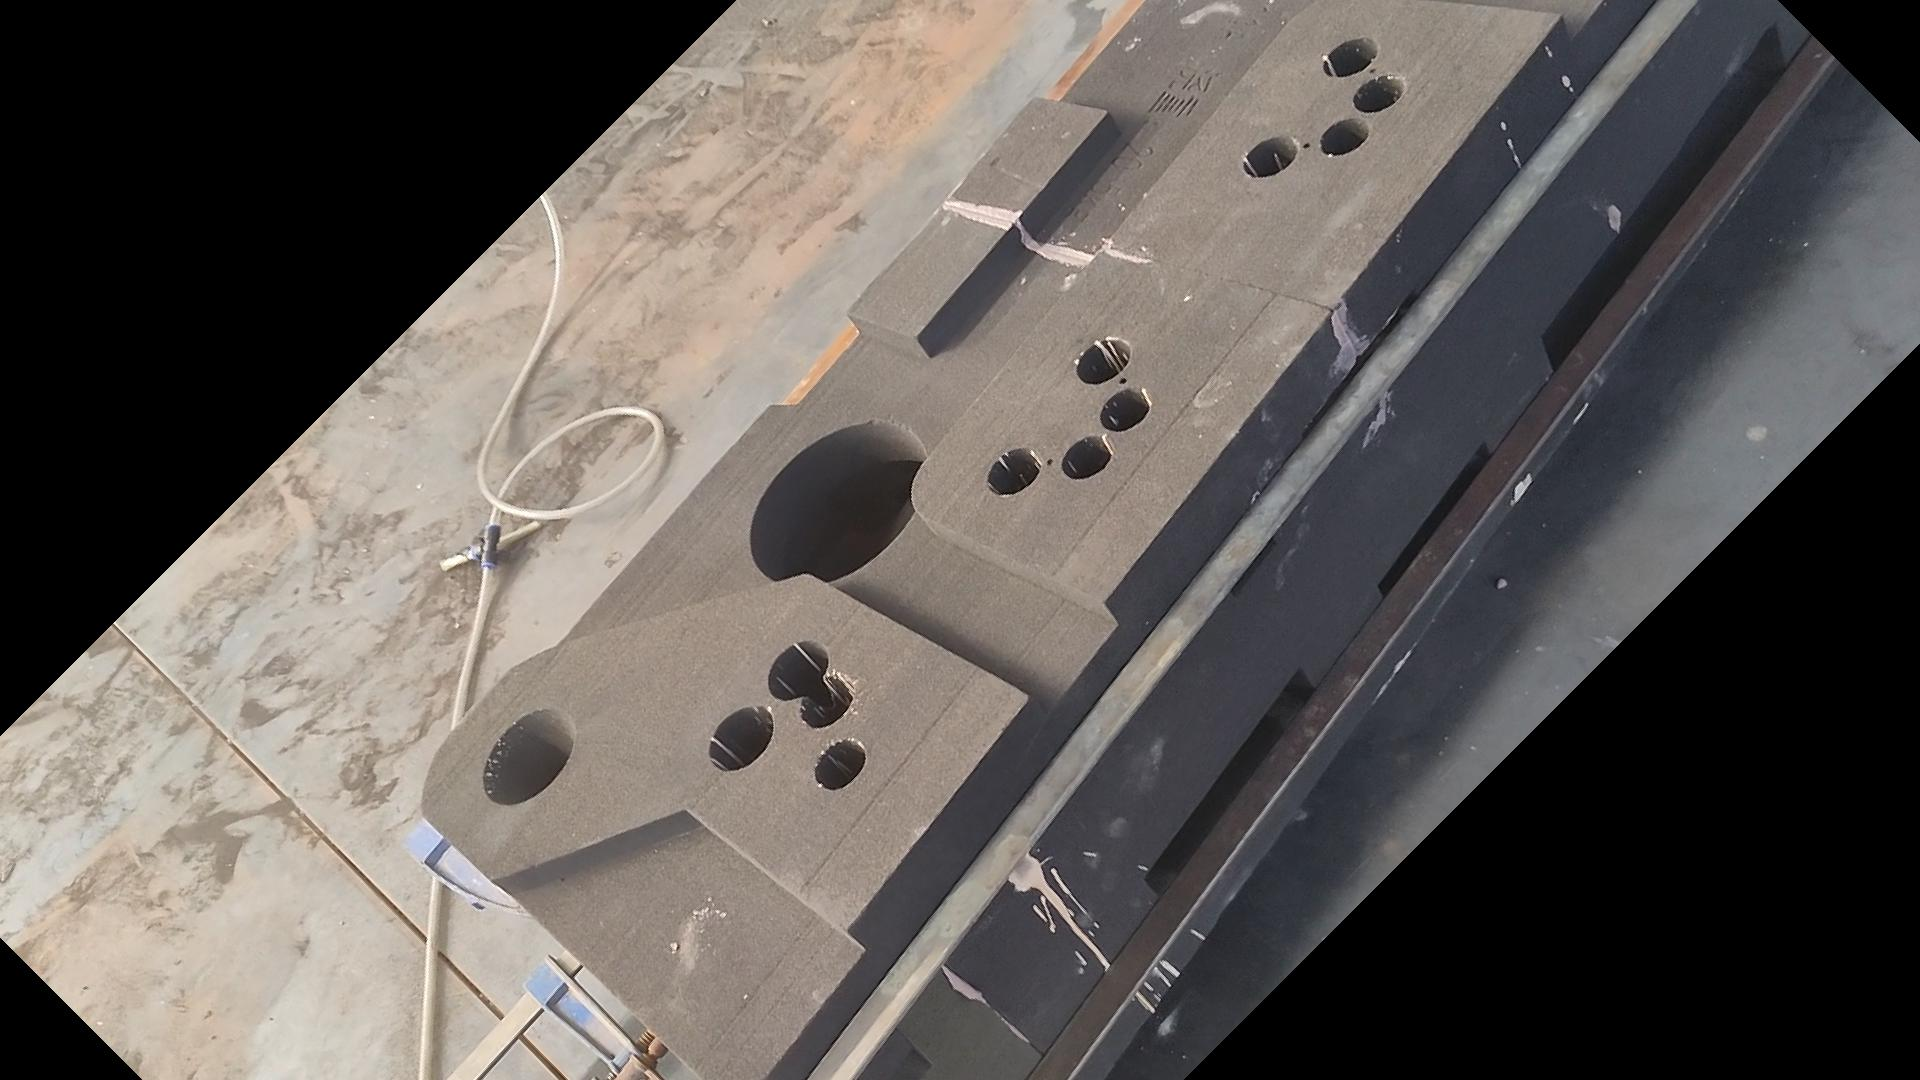pouring hole: (480, 705, 578, 807)
